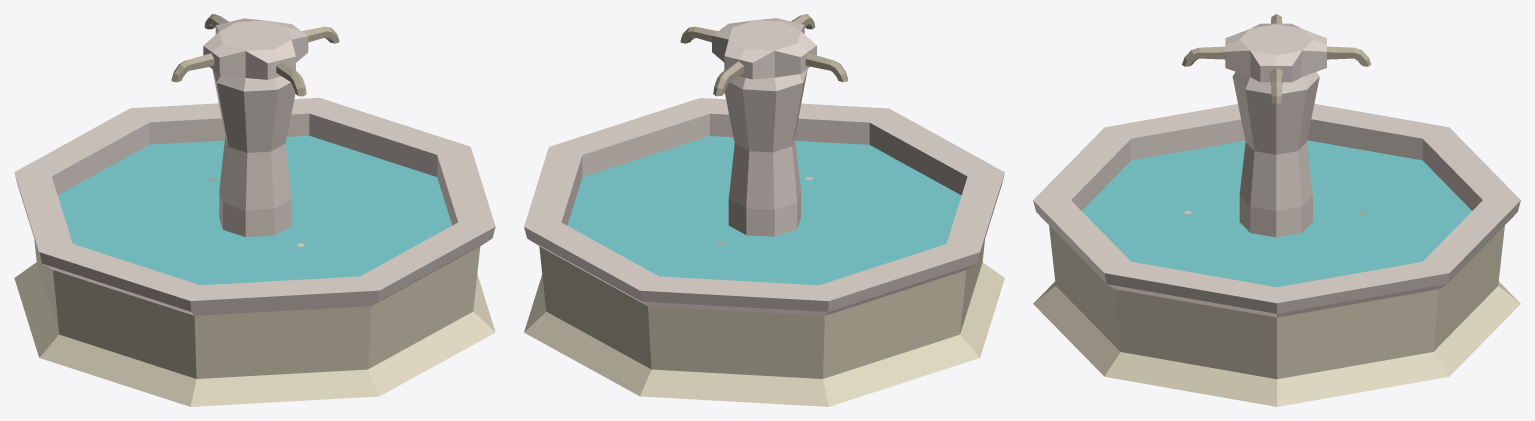
File: roman_fountain_big.fbx
3 views of the same model, side by side, from view 1: azimuth 30°, elevation 25°; view 2: azimuth 150°, elevation 25°; view 3: azimuth 270°, elevation 25° (orthographic). The views are drawn at different scales.
Parts seen in each view (by area): view 1: Cylinder.024; view 2: Cylinder.024; view 3: Cylinder.024.
Boxes of the visible parts, bbox=[...] form: Cylinder.024: bbox=[14, 14, 495, 406]; Cylinder.024: bbox=[524, 14, 1004, 406]; Cylinder.024: bbox=[1033, 14, 1520, 406].
Size of the model in its own units: 4.27 by 2.55 by 4.27.
